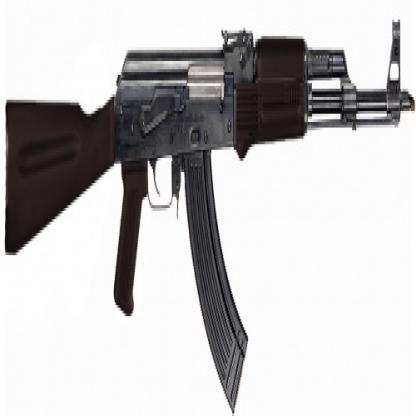Gun: (2, 0, 415, 413)
